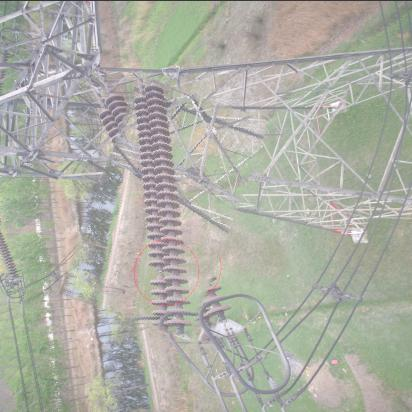insulator: (79, 82, 253, 332), (1, 221, 21, 282)
